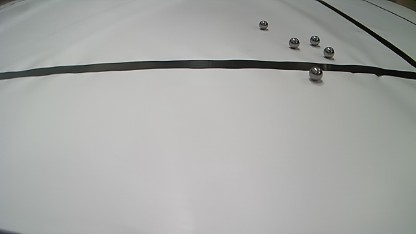ironball: (309, 66, 323, 81), (323, 46, 334, 58), (289, 37, 299, 49), (310, 35, 320, 46), (259, 20, 268, 29)
